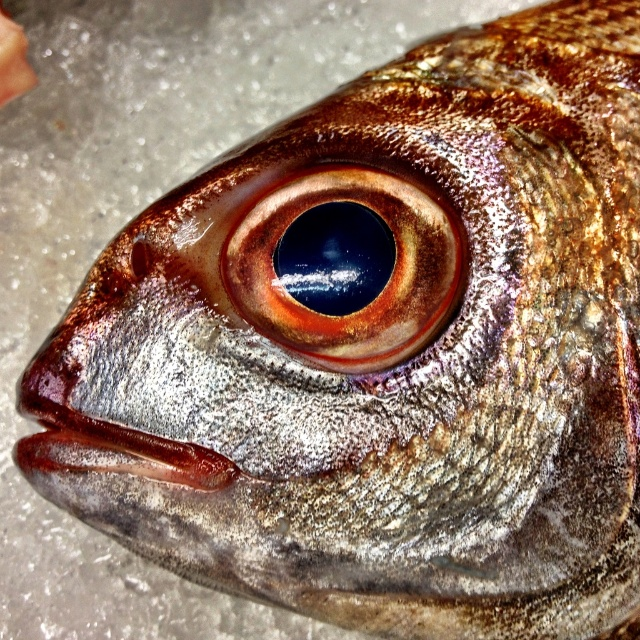Fish: (0, 0, 629, 612)
